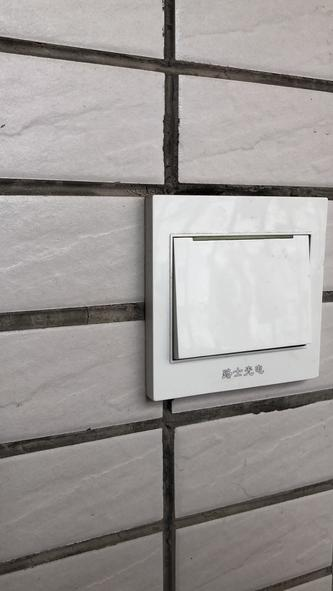switch: (168, 226, 318, 365)
